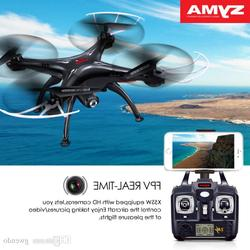drone: (1, 12, 209, 147)
